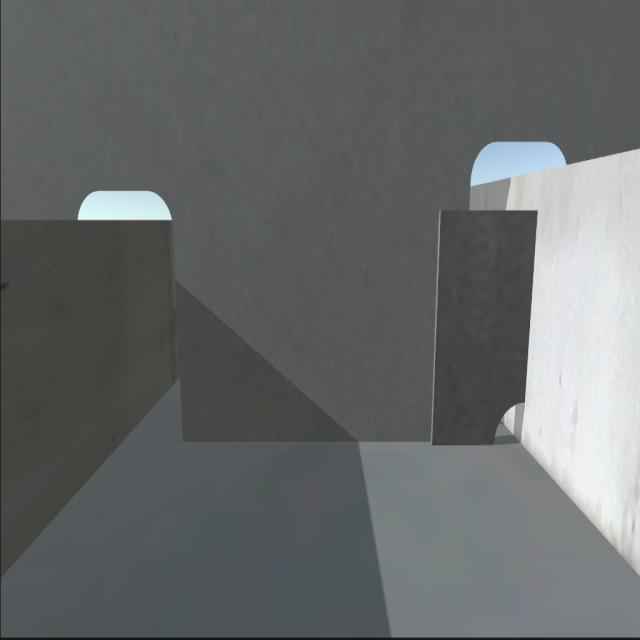fillet_hole: (489, 394, 527, 448)
fillet_yong_jeop_jang: (180, 425, 496, 455)
longi_yong_jeop_jang: (523, 203, 540, 405)
plate_CP01: (434, 207, 527, 445)
